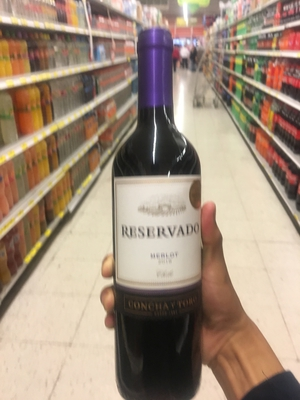reservado merlot: (100, 37, 214, 400)
